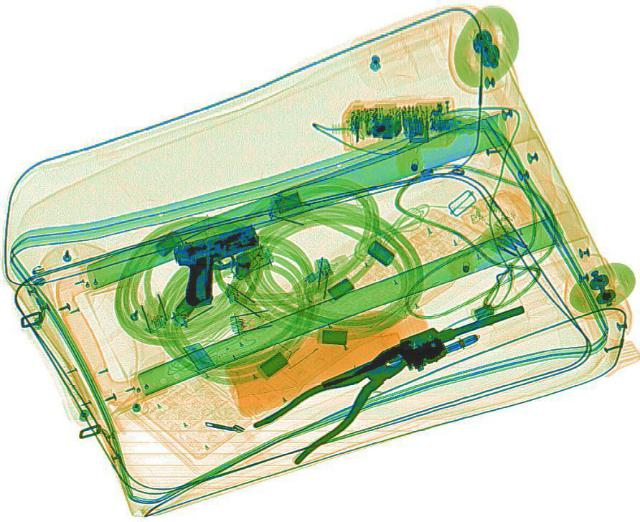Gun: (160, 223, 284, 309)
Pliers: (250, 330, 442, 463)
